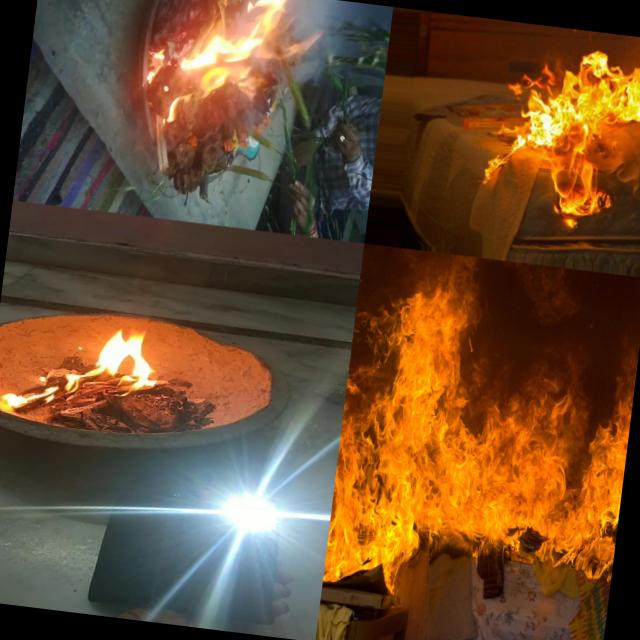fire: (314, 243, 640, 640), (473, 19, 640, 234), (0, 315, 176, 431), (223, 92, 296, 232), (180, 76, 240, 170), (240, 18, 278, 94), (281, 203, 306, 236)
smoke: (175, 0, 253, 81)
